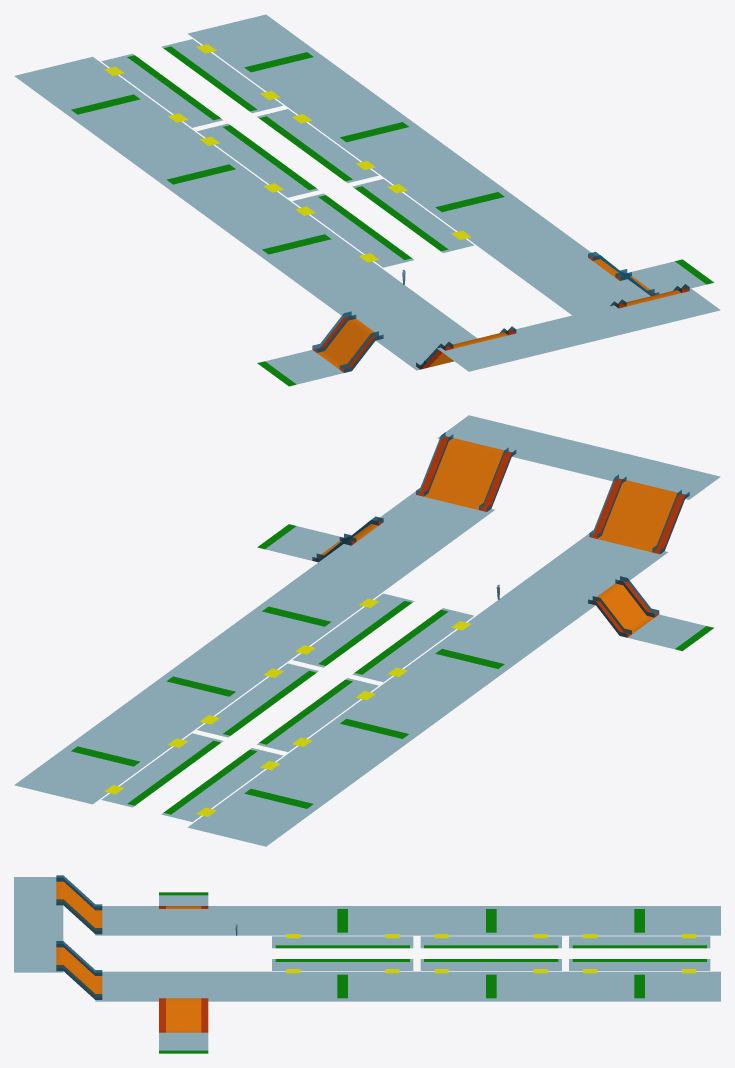
File: WorldGeometry.dae
3 renders of one model, top to bottom at view 1: azimuth 30°, elevation 25°; view 2: azimuth 150°, elevation 25°; view 3: azimuth 270°, elevation 25°, orthographic. The views are drawn at different scales.
Visible parts, largest first — view 1: FloorMesh (×11), PortalMesh (×6), StairMesh; view 2: FloorMesh (×11), StairMesh (×3), PortalMesh (×6); view 3: FloorMesh (×11), StairMesh (×3), PortalMesh (×6).
Boxes of the visible parts, left/top/right/bottom form: FloorMesh (×11): left=14, top=14, right=720, bottom=384; PortalMesh (×6): left=127, top=46, right=448, bottom=260; StairMesh: left=317, top=319, right=376, bottom=369; FloorMesh (×11): left=14, top=415, right=720, bottom=846; StairMesh (×3): left=424, top=438, right=680, bottom=633; PortalMesh (×6): left=127, top=601, right=448, bottom=814; FloorMesh (×11): left=14, top=877, right=720, bottom=1050; StairMesh (×3): left=56, top=881, right=201, bottom=1032; PortalMesh (×6): left=275, top=945, right=706, bottom=961.
Bounding box in the file's own units: 54 × 8 × 100.
